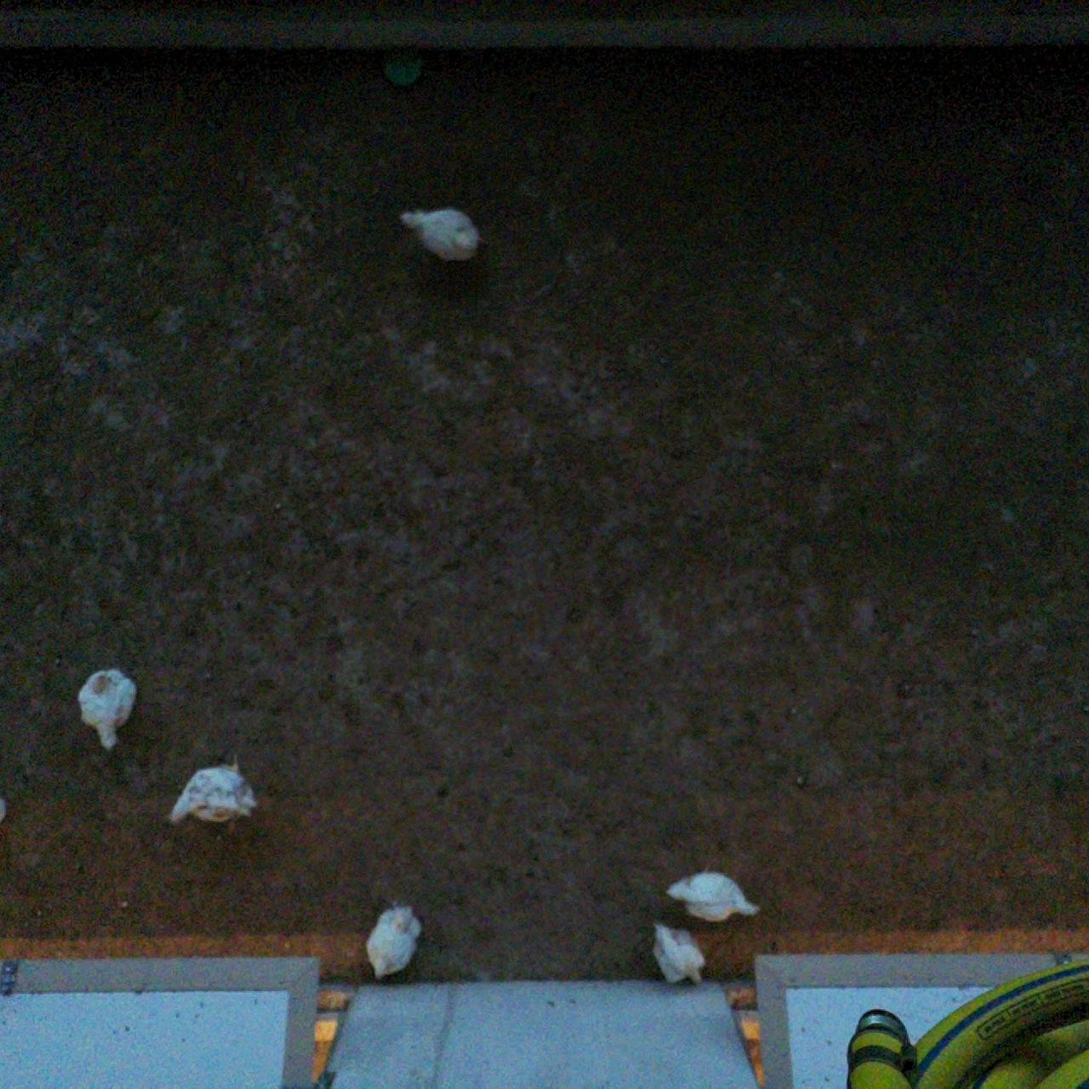chicken: (164, 748, 259, 829), (663, 858, 764, 926), (75, 663, 141, 755), (398, 203, 488, 266), (365, 898, 426, 980), (647, 919, 712, 991)
